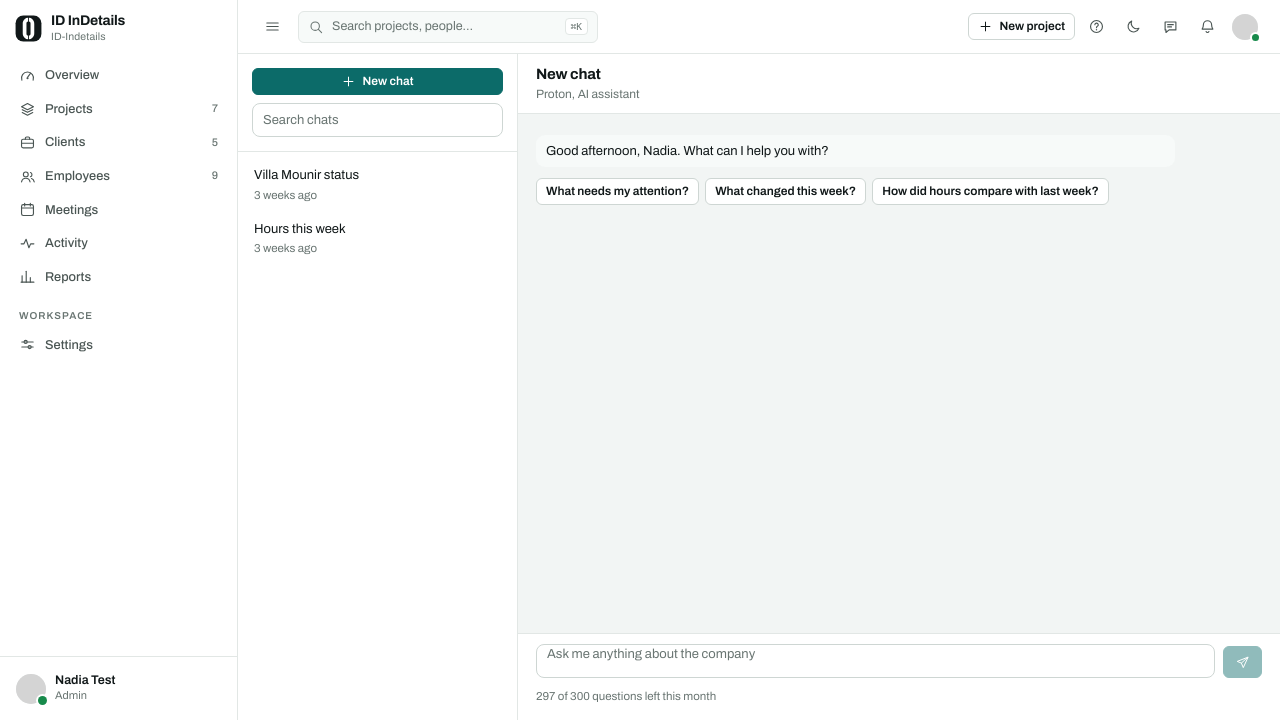
Scenario: Proton's page › lists the saved chats and opens one, which then carries on in the same conversation
Click the button "Villa Mounir status 3 weeks ago" at (307, 175), box [244,158,511,212]
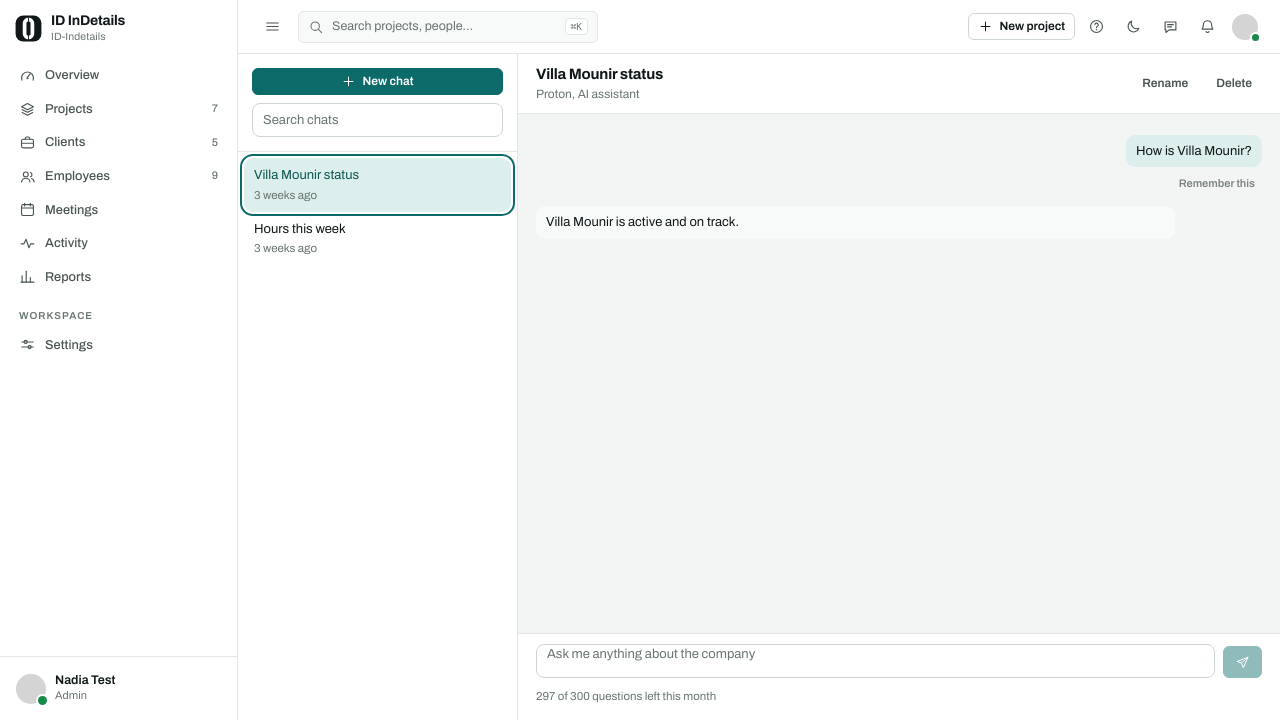
Expected: the text "Villa Mounir is active and on track." is shown, [546,215,739,229]
Expected: the text "How is Villa Mounir?" is shown, [1136,142,1252,160]
Type "And now?" into the text box named "Ask Proton" at (876, 661), box [536,644,1215,678]
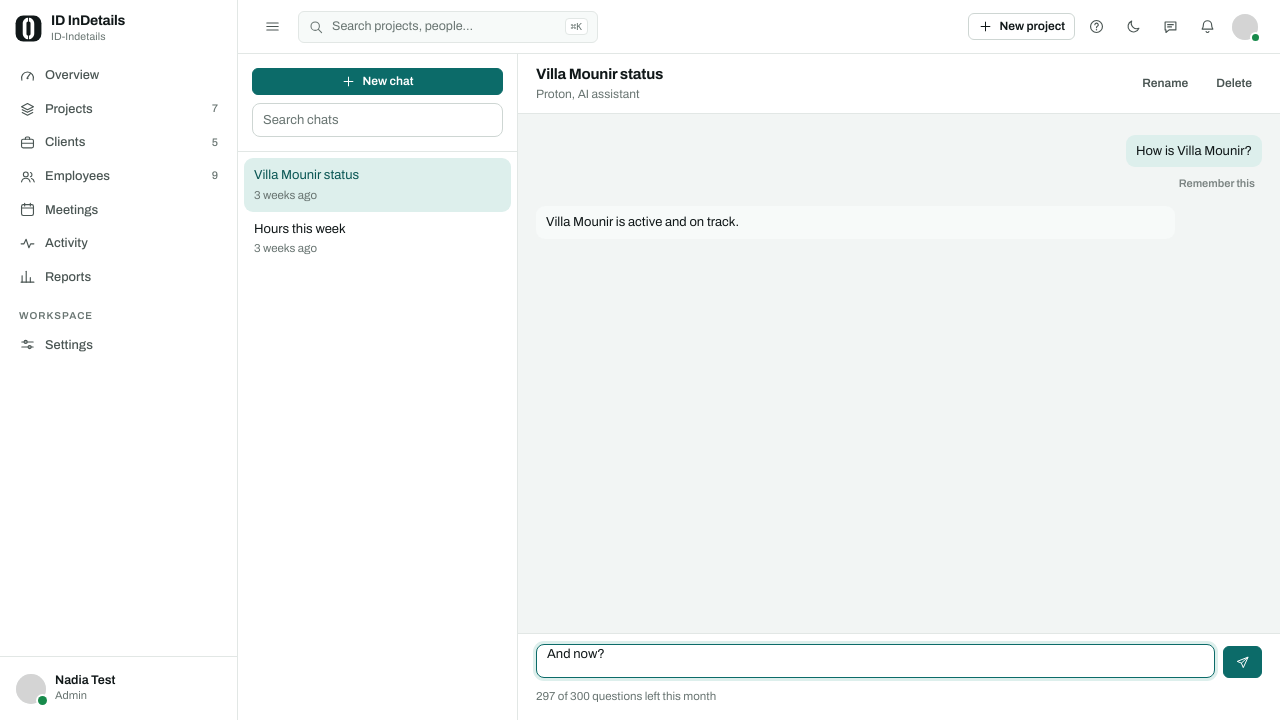
Click the button named "Send" at (1242, 662), box [1223,646,1262,678]
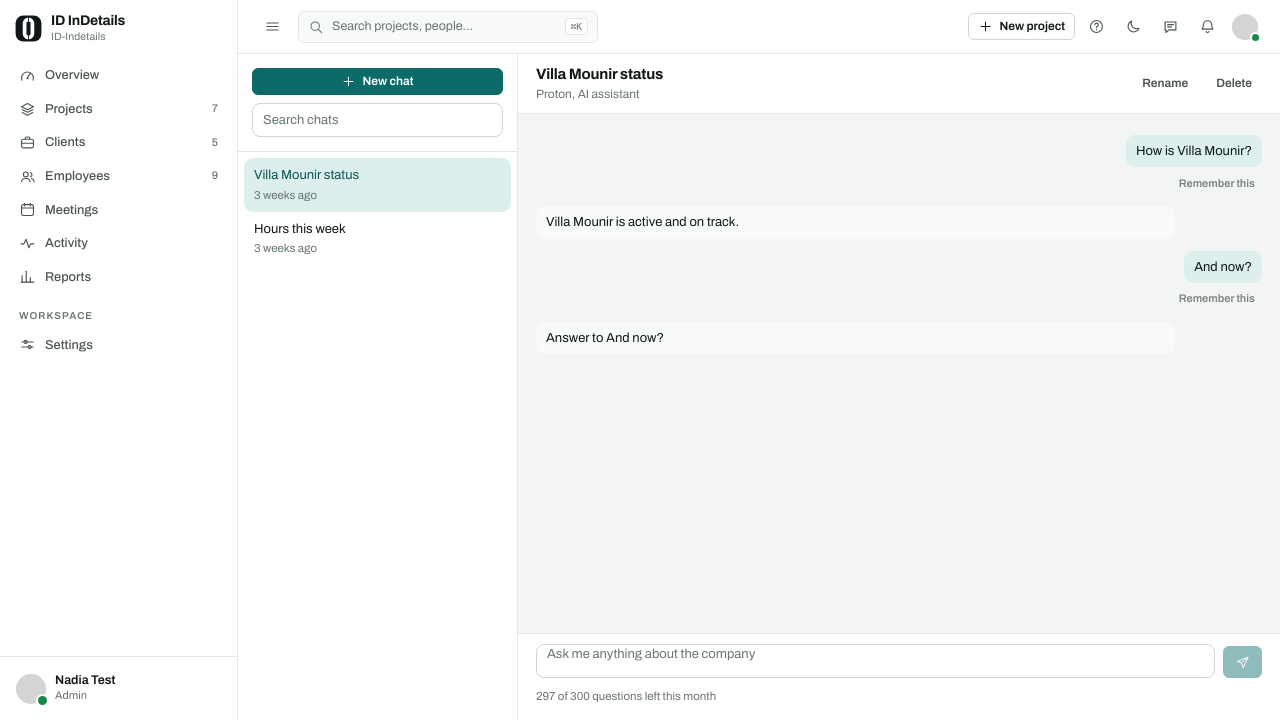
Expected: the text "Answer to And now?" is shown, [546,331,664,345]
